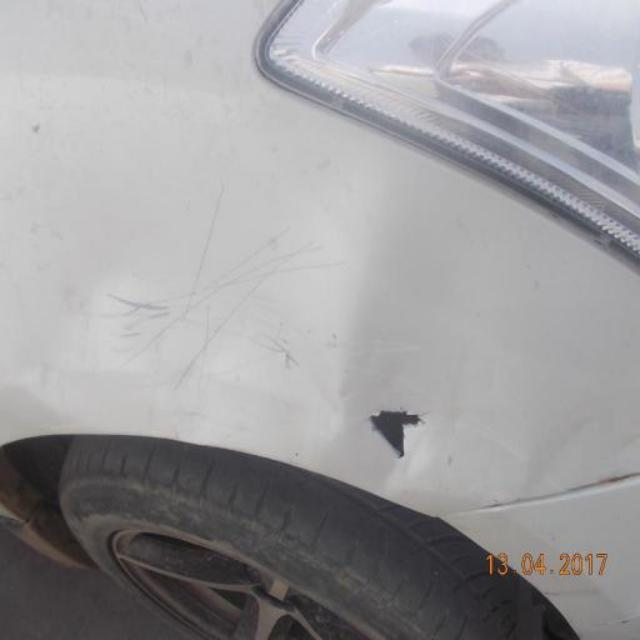crack: (367, 399, 433, 468)
